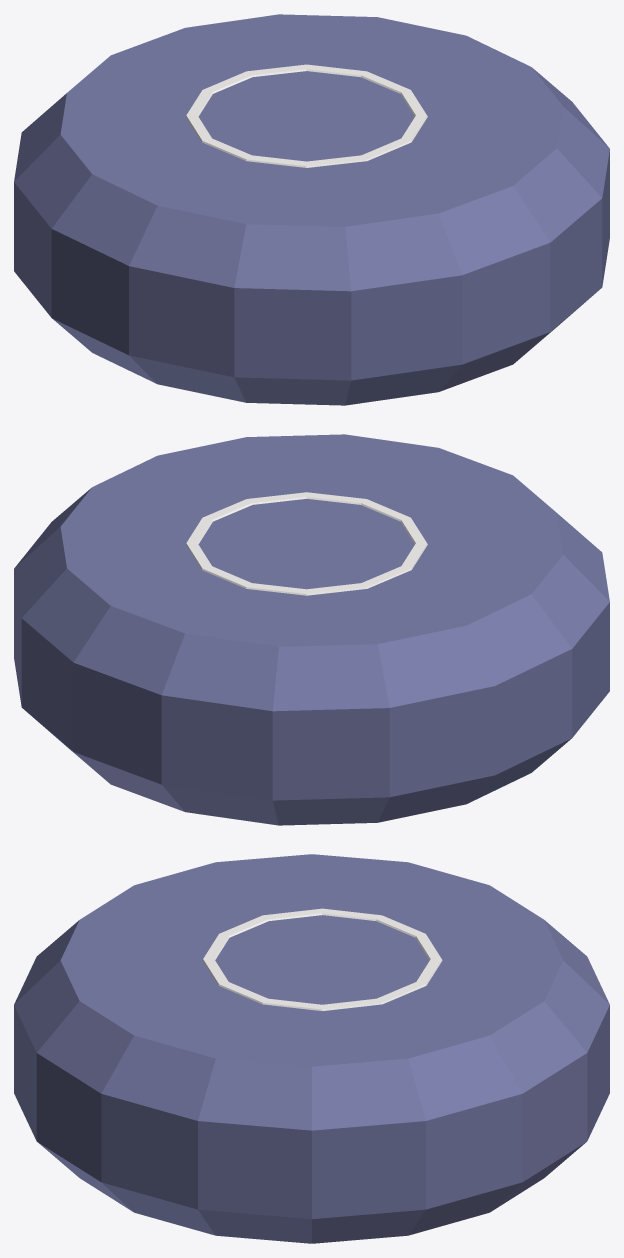
The model's file is Pillow_6.fbx.
3 views of the same model, one above another, from view 1: azimuth 30°, elevation 25°; view 2: azimuth 150°, elevation 25°; view 3: azimuth 270°, elevation 25° (orthographic).
Visible parts, largest first — view 1: Pillow_6; view 2: Pillow_6; view 3: Pillow_6.
Part boxes in pixels (left/top/right/bottom): Pillow_6: left=14, top=14, right=609, bottom=405; Pillow_6: left=14, top=434, right=609, bottom=825; Pillow_6: left=14, top=854, right=609, bottom=1243.
Size of the model in its own units: 46.85 by 46.85 by 15.49.
